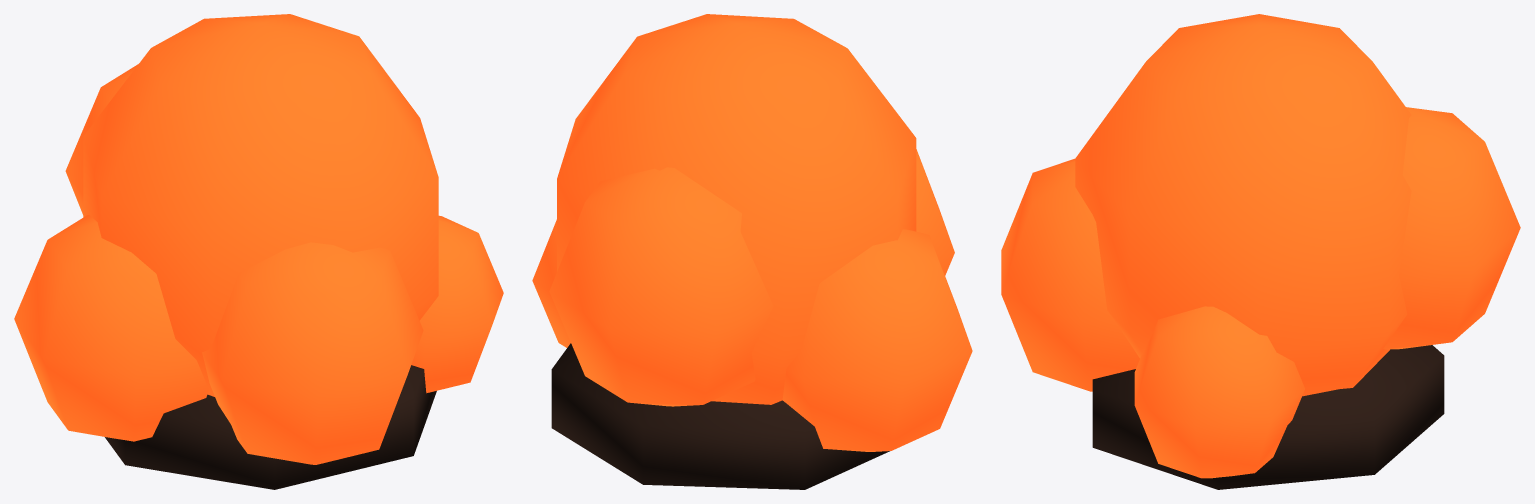
File: sac_cluster_fire.glb
The picture shows the model from 3 angles, left to right: view 1: azimuth 30°, elevation 25°; view 2: azimuth 150°, elevation 25°; view 3: azimuth 270°, elevation 25°; orthographic projection.
Parts seen in each view (by area): view 1: part.sac_cluster_fire; view 2: part.sac_cluster_fire; view 3: part.sac_cluster_fire.
Boxes of the visible parts, <box> form: part.sac_cluster_fire: <box>14,14,503,489</box>; part.sac_cluster_fire: <box>532,14,972,489</box>; part.sac_cluster_fire: <box>1001,14,1520,489</box>.
Bounding box in the file's own units: 0.5211 × 0.4763 × 0.5371.
